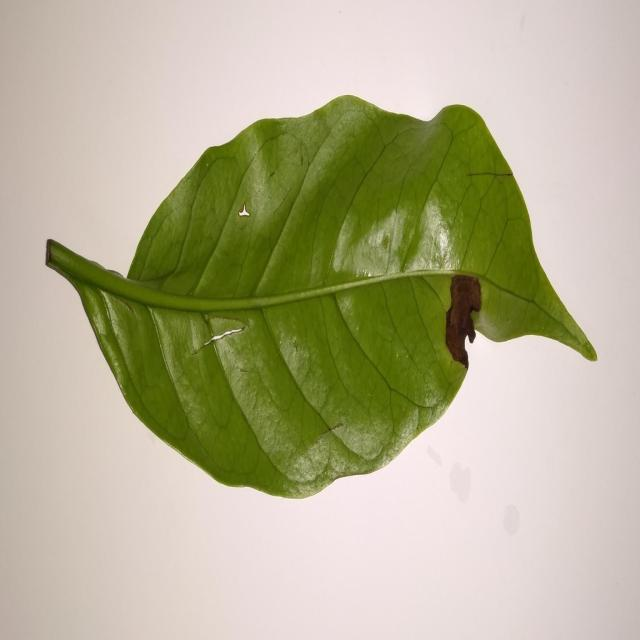Enfermedad-Antracnosis: (44, 95, 598, 503)
